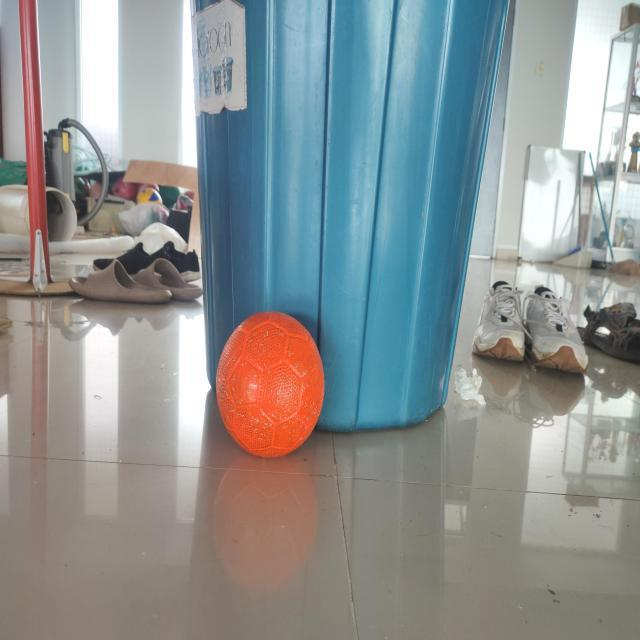bola: (210, 300, 335, 465)
